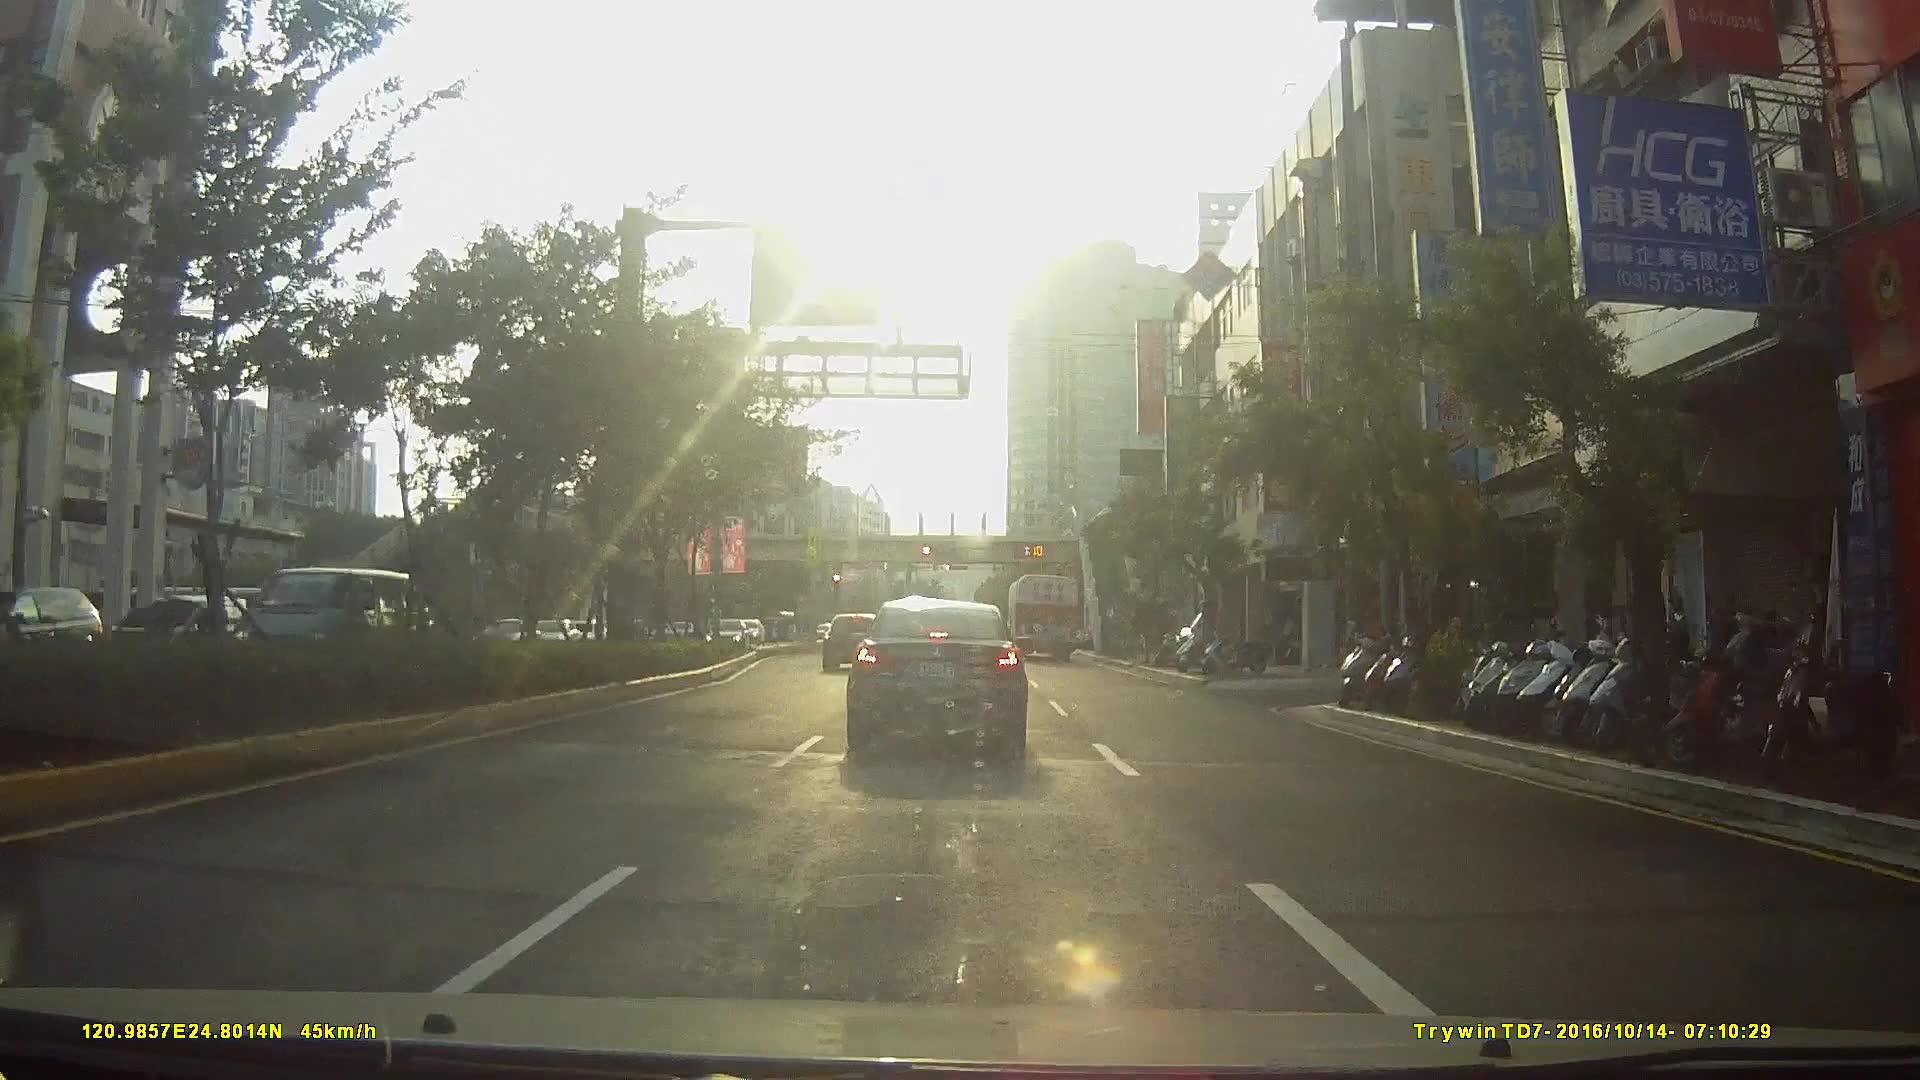vehicle: (844, 592, 1029, 756), (237, 563, 436, 676), (0, 582, 99, 663), (1005, 570, 1083, 662), (818, 611, 884, 675), (702, 616, 752, 654)
